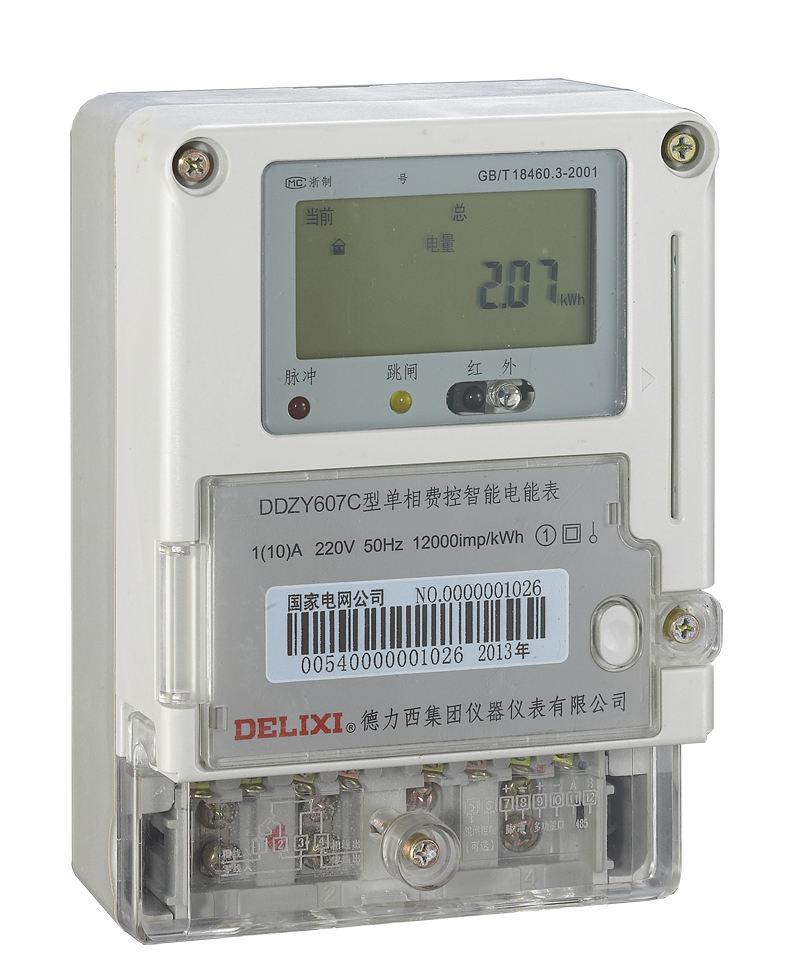digital: (163, 113, 718, 775)
